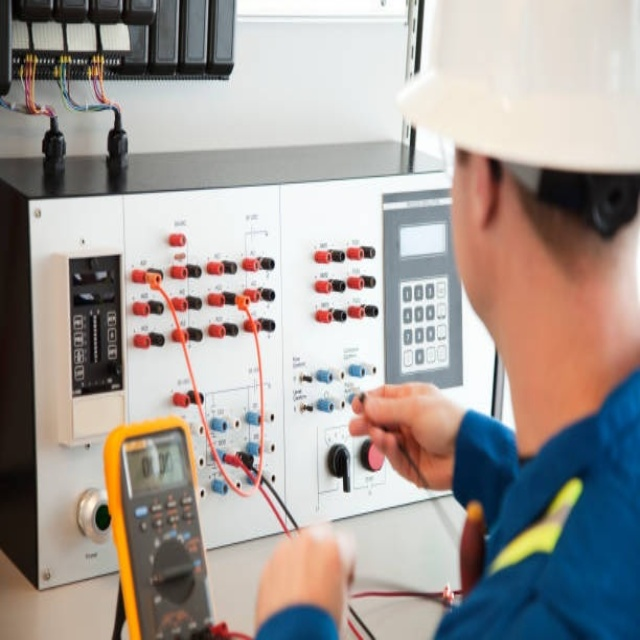Sin_guantes: (351, 382, 461, 493), (251, 523, 356, 637)
